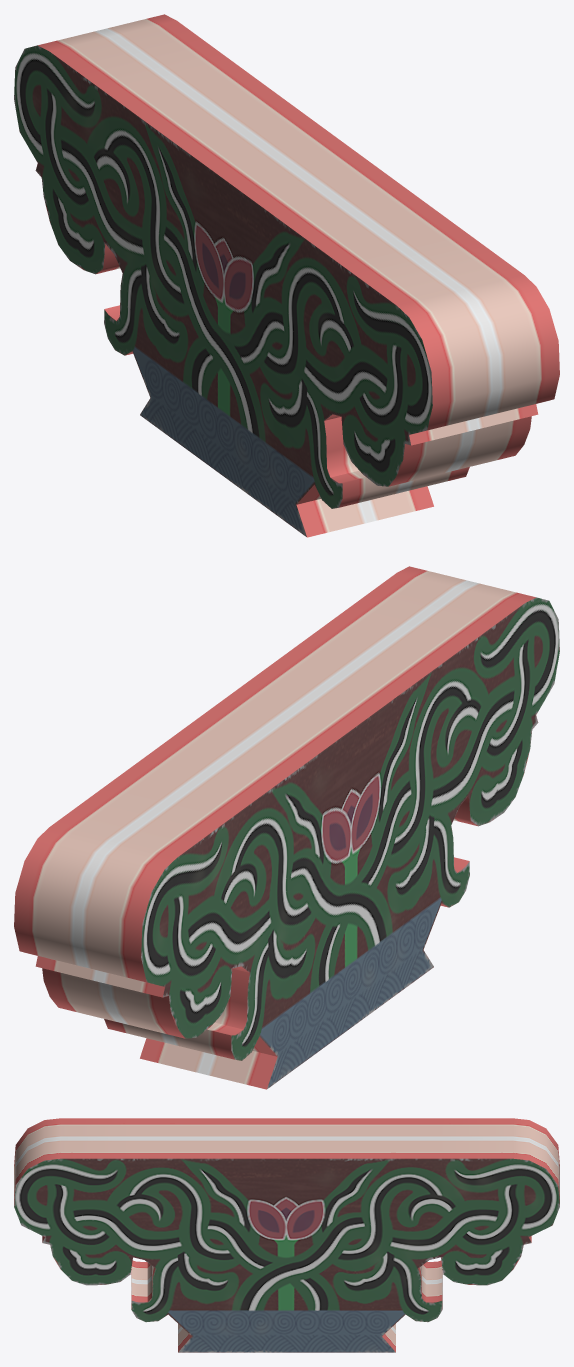
Rendered from SM_CGJ_FlowerBracket01b.fbx.
The picture shows the model from 3 angles, top to bottom: view 1: azimuth 30°, elevation 25°; view 2: azimuth 150°, elevation 25°; view 3: azimuth 270°, elevation 25°; orthographic projection. The views are drawn at different scales.
Visible parts, largest first — view 1: SM_CGJ_FlowerBracket01b; view 2: SM_CGJ_FlowerBracket01b; view 3: SM_CGJ_FlowerBracket01b.
Part boxes in pixels (x1,y1,x2,y2): SM_CGJ_FlowerBracket01b: (14, 14, 559, 537); SM_CGJ_FlowerBracket01b: (14, 566, 559, 1089); SM_CGJ_FlowerBracket01b: (14, 1118, 559, 1352).
Size of the model in its own units: 11.17 by 63.79 by 25.
1 material, 1 textured.
